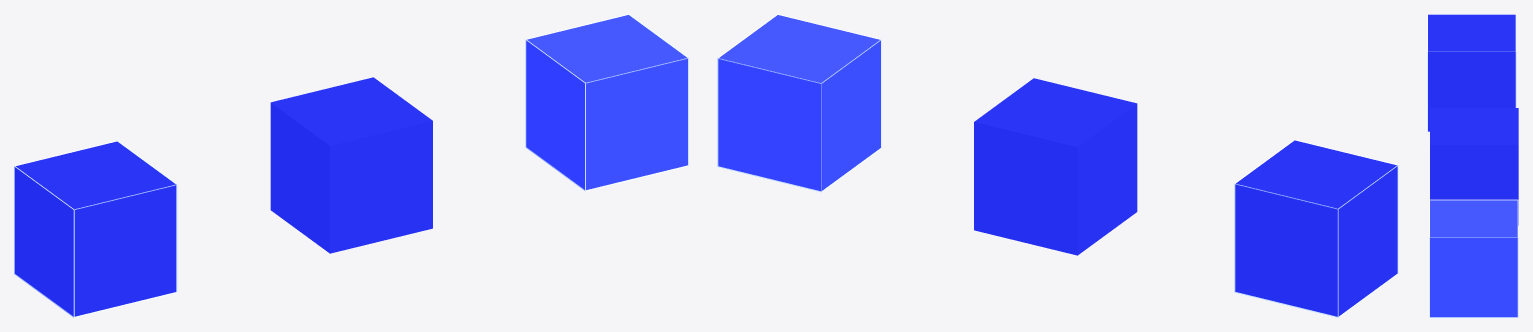
3 views of the same model, side by side, from view 1: azimuth 30°, elevation 25°; view 2: azimuth 150°, elevation 25°; view 3: azimuth 270°, elevation 25° (orthographic). The views are drawn at different scales.
Parts seen in each view (by area): view 1: cube-1, cube-0, cube-2, cube-0-wireframe, cube-2-wireframe; view 2: cube-1, cube-0, cube-2, cube-0-wireframe, cube-2-wireframe; view 3: cube-2, cube-0, cube-1, cube-2-wireframe, cube-0-wireframe.
Part boxes in pixels (box(x1,y1,x2,y2)): cube-1: box(270, 77, 432, 253); cube-0: box(15, 141, 176, 316); cube-2: box(526, 15, 687, 189); cube-0-wireframe: box(14, 140, 177, 317); cube-2-wireframe: box(525, 14, 688, 191); cube-1: box(974, 78, 1137, 255); cube-0: box(1235, 140, 1397, 316); cube-2: box(718, 15, 880, 191); cube-0-wireframe: box(1234, 139, 1398, 317); cube-2-wireframe: box(717, 14, 881, 192); cube-2: box(1430, 200, 1517, 317); cube-0: box(1428, 14, 1515, 131); cube-1: box(1430, 108, 1518, 225); cube-2-wireframe: box(1429, 199, 1518, 317); cube-0-wireframe: box(1427, 14, 1516, 132).
Bounding box in the file's own units: 11.97 × 2.02 × 2.06.
